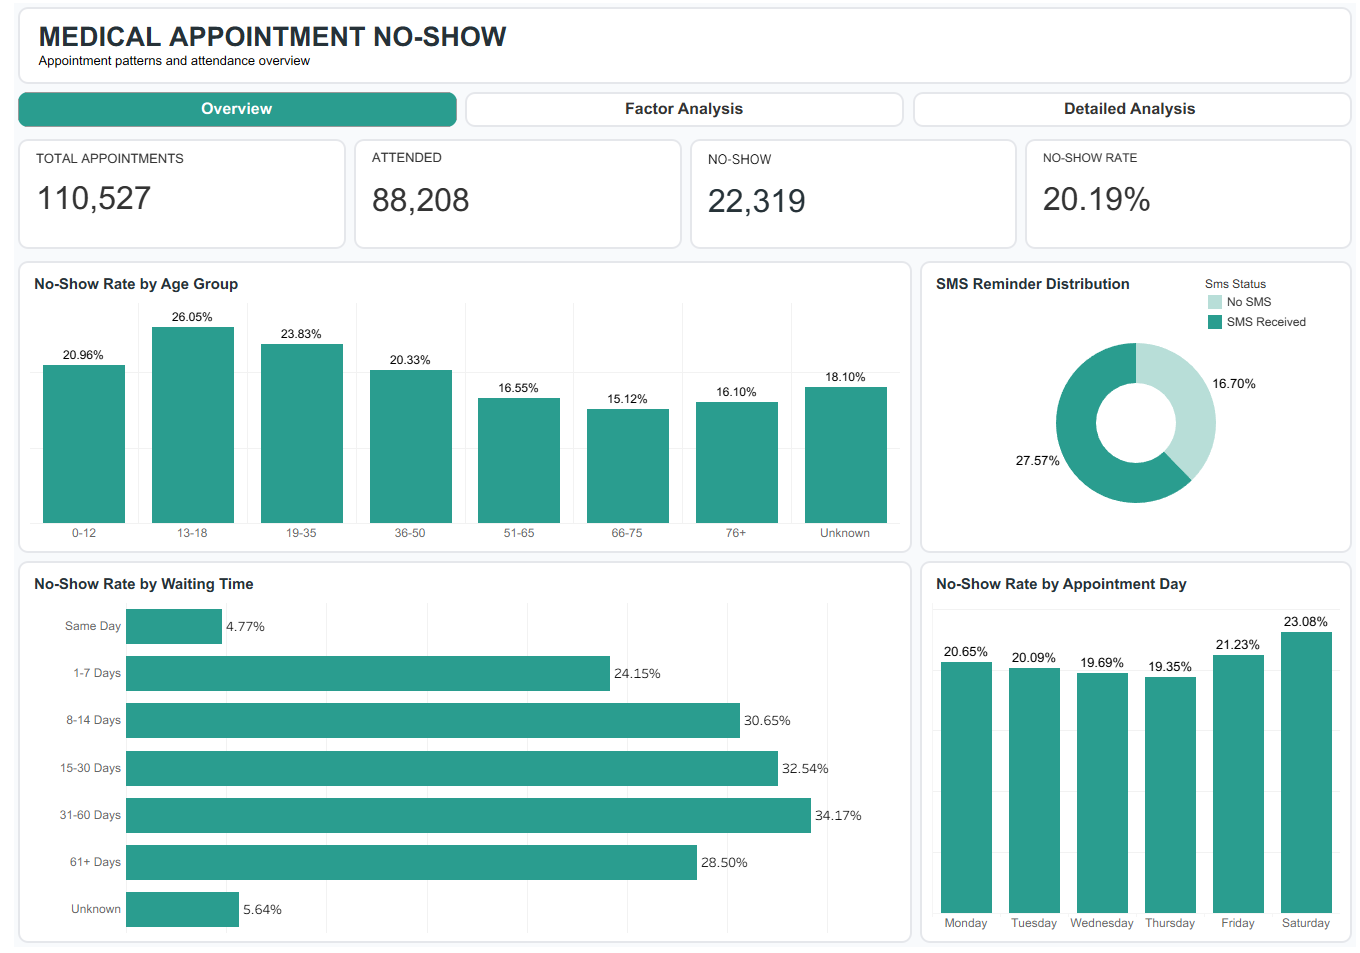

Layout of this report page (visuals, bound fields, positions):
{"tool":"tableau","page":{"name":"Overview","canvas":[1366,968],"ordinal":2},"visuals":[{"type":"text","box":[12,12,1342,84.5]},{"type":"dashboard-object","box":[12,96.5,447.3,43.5]},{"type":"dashboard-object","box":[459.3,96.5,447.3,43.5]},{"type":"dashboard-object","box":[906.7,96.5,447.3,43.5]},{"type":"worksheet","title":"KPI - Total Appointments","mark":"Automatic","box":[12,144,336,118]},{"type":"worksheet","title":"KPI - Attended","mark":"Automatic","box":[348,144,336,118]},{"type":"worksheet","title":"KPI - No Show","mark":"Automatic","box":[684,144,335,118]},{"type":"worksheet","title":"KPI - No-Show Rate","mark":"Automatic","box":[1019,144,335,118]},{"type":"worksheet","title":"Chart - Age Group","mark":"Bar","rows":["Calculation_0297463918501891"],"cols":["age_group"],"box":[12,265.7,902,300]},{"type":"worksheet","title":"Chart - SMS","mark":"Pie","cols":["Calculation_0297463952502788","Calculation_0297463952502788"],"box":[914,265.7,440,300]},{"type":"legend","title":"Chart - SMS","param":"[federated.0codjcv1dexsxq13891wl0rhwwvl].[none:sms_status:nk]","box":[1203,286.1,140,69.3]},{"type":"worksheet","title":"Chart - Waiting Group","mark":"Automatic","rows":["waiting_group"],"cols":["Calculation_0297463918501891"],"box":[12,565.7,902,390.3]},{"type":"worksheet","title":"Chart - Weekday","mark":"Automatic","rows":["Calculation_0297463918501891"],"cols":["appointment_day_name"],"box":[914,565.7,440,390.3]}]}

Visuals, with their boxes in screenshot pixels (x1, y1, x2, y2), scaled from the page's 1366x968 canvas onto the 1360x953 screenshot:
text: 12:12:1348:95
dashboard-object: 12:95:457:138
dashboard-object: 457:95:903:138
dashboard-object: 903:95:1348:138
"KPI - Total Appointments" worksheet: 12:142:346:258
"KPI - Attended" worksheet: 346:142:681:258
"KPI - No Show" worksheet: 681:142:1015:258
"KPI - No-Show Rate" worksheet: 1015:142:1348:258
"Chart - Age Group" worksheet (Bar marks): 12:262:910:557
"Chart - SMS" worksheet (Pie marks): 910:262:1348:557
"Chart - SMS" legend: 1198:282:1337:350
"Chart - Waiting Group" worksheet: 12:557:910:941
"Chart - Weekday" worksheet: 910:557:1348:941
